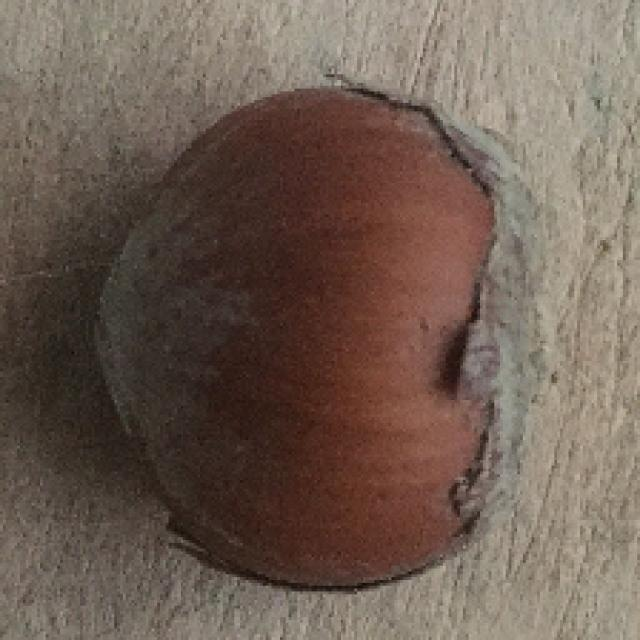damagedHazelnut: (93, 69, 550, 602)
